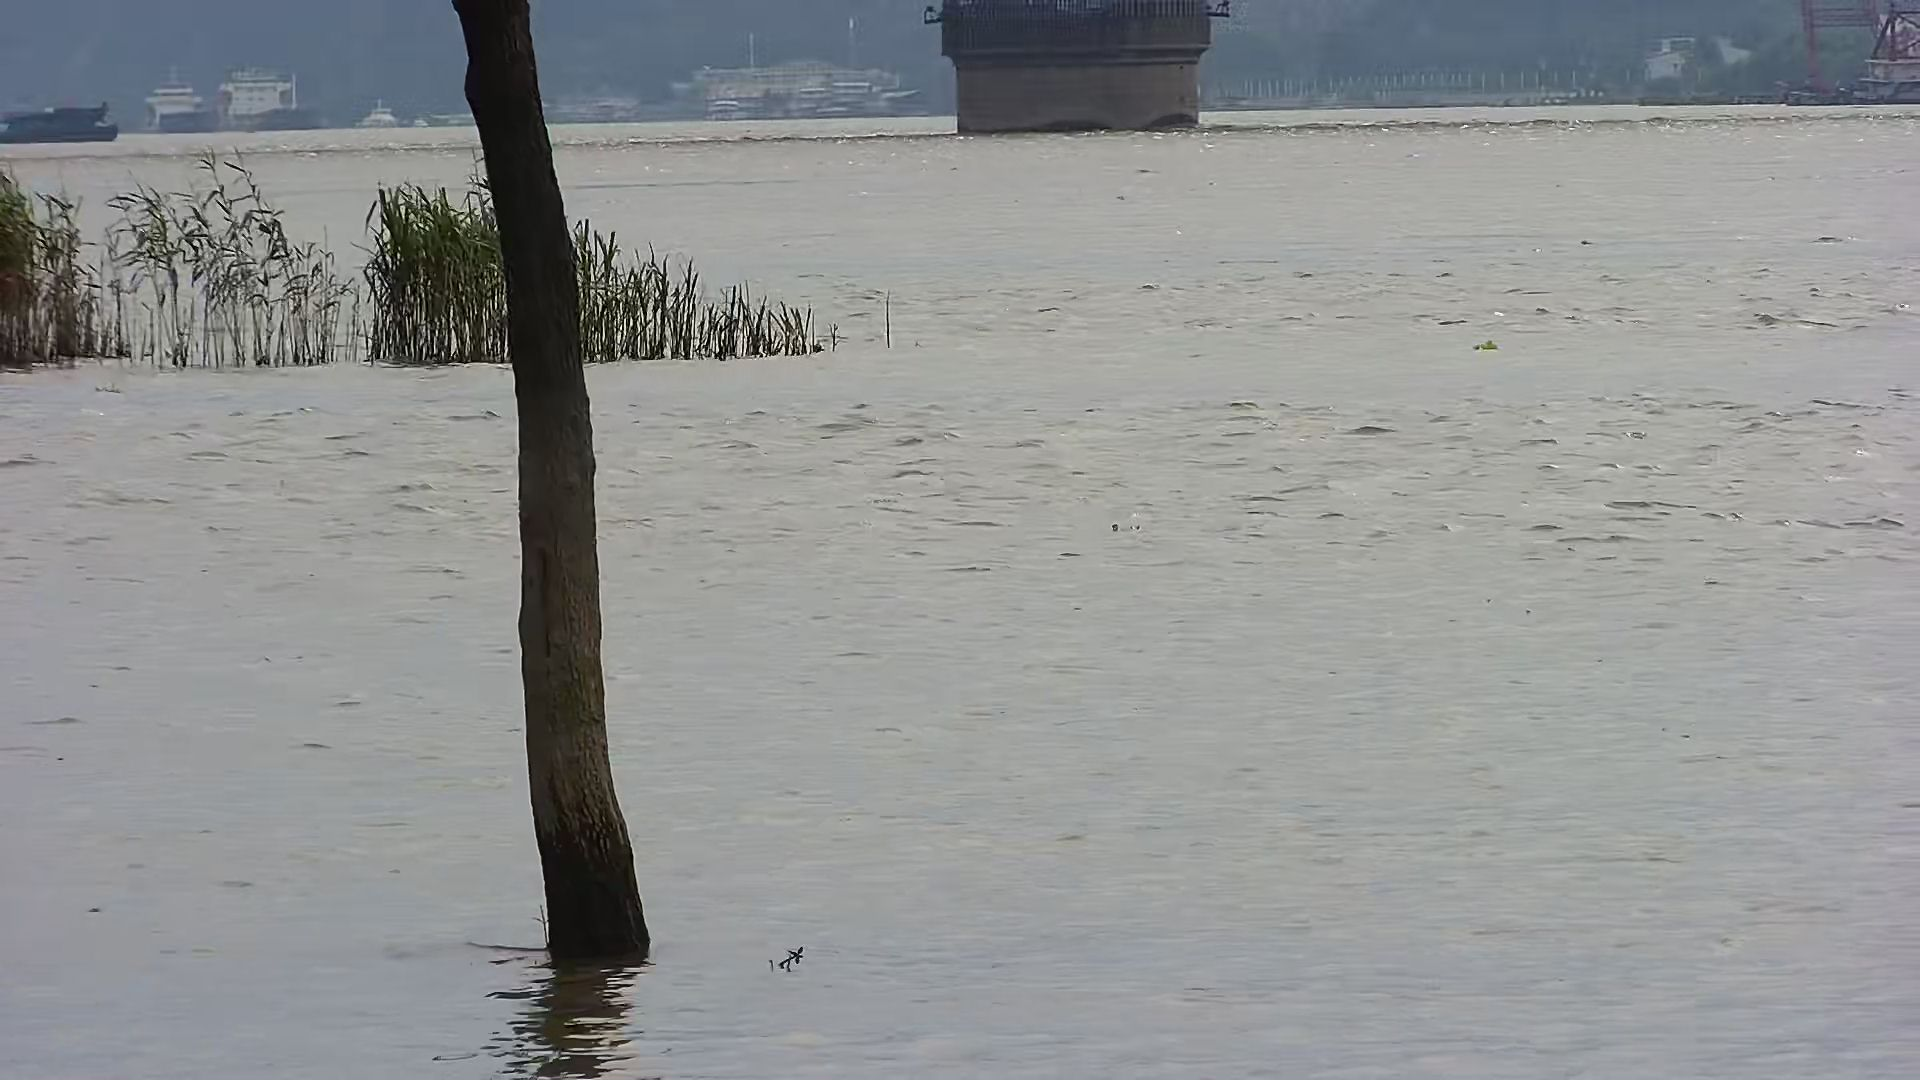grass: (1, 170, 837, 361)
mast: (934, 1, 1216, 132)
tree: (448, 1, 651, 961)
